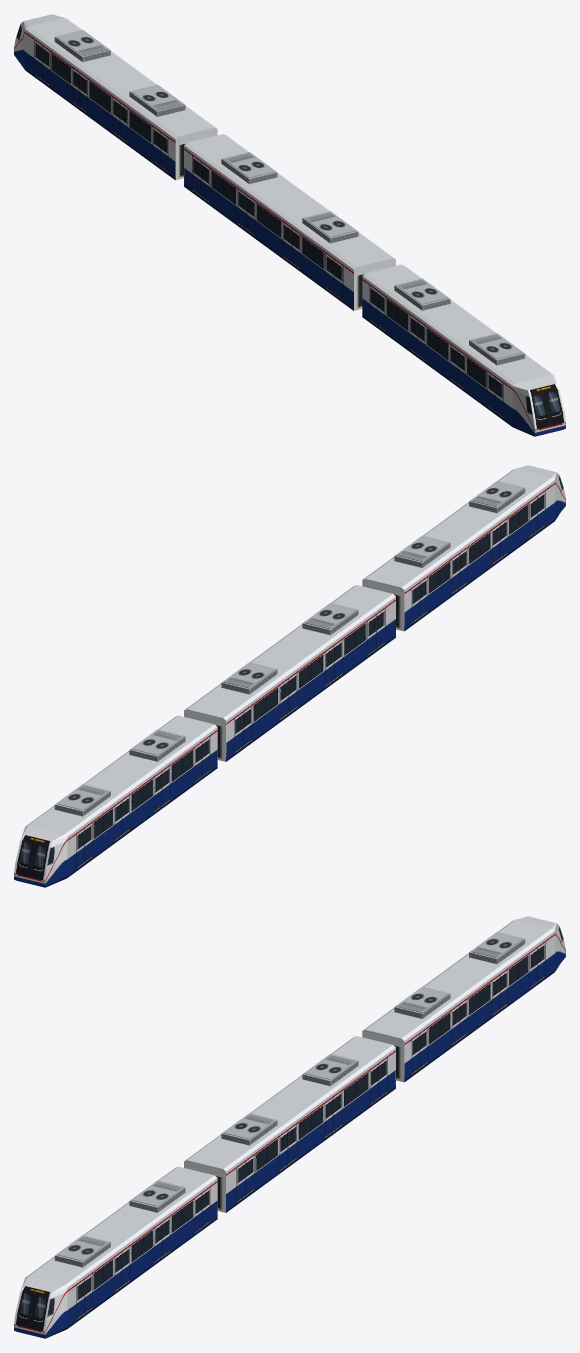
Rendered from BTS_Train_FullConsist.obj.
3 renders of one model, top to bottom at view 1: azimuth 30°, elevation 25°; view 2: azimuth 150°, elevation 25°; view 3: azimuth 330°, elevation 25°, orthographic.
Visible parts, largest first — view 1: BTS_Train_3Car_Consist; view 2: BTS_Train_3Car_Consist; view 3: BTS_Train_3Car_Consist.
Part boxes in pixels (x1,y1,x2,y2): BTS_Train_3Car_Consist: (14, 14, 565, 436); BTS_Train_3Car_Consist: (14, 465, 565, 887); BTS_Train_3Car_Consist: (14, 916, 565, 1338).
Bounding box in the file's own units: 3.12 × 4.19 × 66.9.
Materials: 1 (1 with a texture image).
